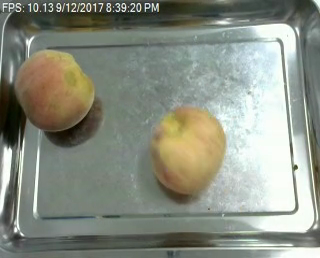Peach: (14, 48, 95, 133), (150, 105, 226, 195)
